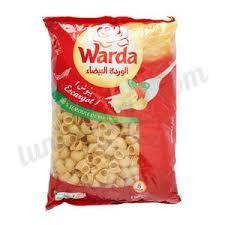Escargot: (44, 18, 180, 208)
